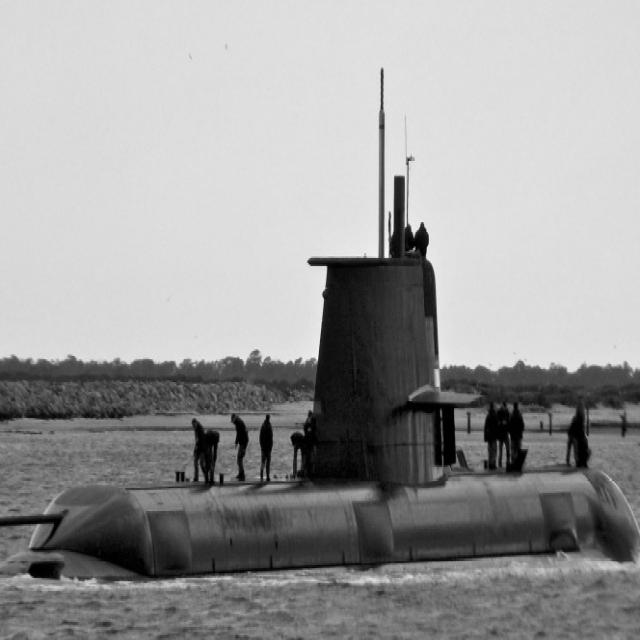submarine: (1, 73, 640, 574)
